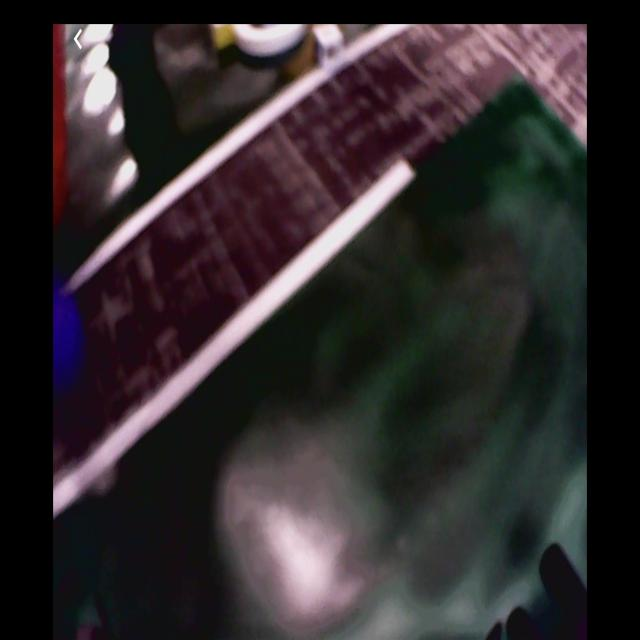ball: (54, 294, 86, 385)
